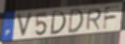5: (34, 11, 48, 37)
D: (49, 10, 68, 36), (67, 8, 85, 35)
F: (101, 5, 122, 31)
R: (85, 8, 103, 31)
V: (15, 11, 34, 40)
